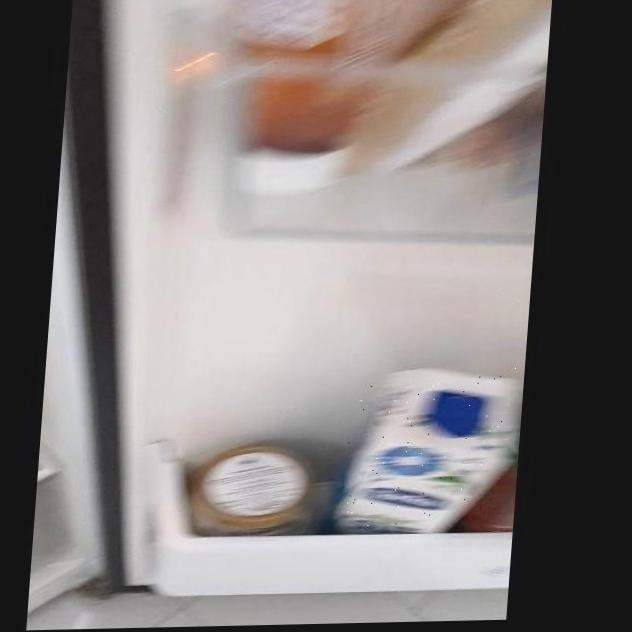milk: (341, 367, 517, 527)
